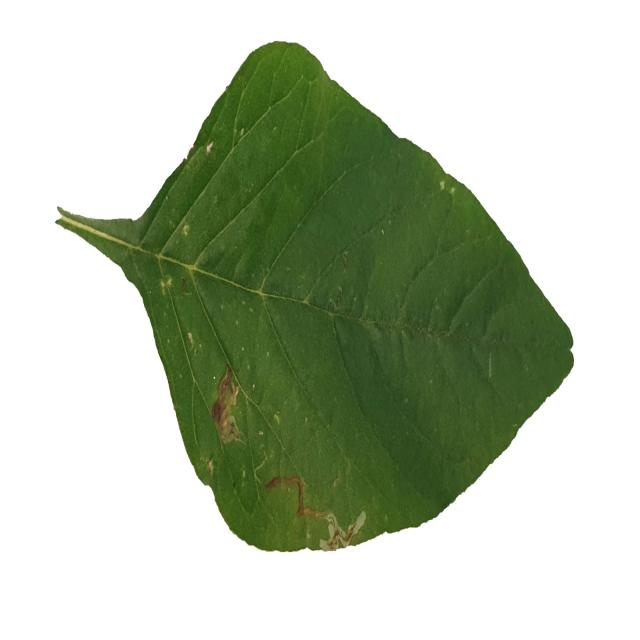Medicinal-Arive Dantu: (57, 36, 577, 551)
